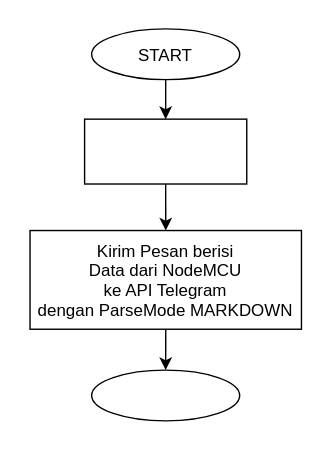
Some shapes in this 331 by 450 pixel diagram are drawn without their labels. The box of each missing label's shape, as (x1, y1, x2, y2) in pixels:
END: (90, 369, 240, 421)
Mengambil Data dari NodeMCU: (83, 118, 247, 184)
